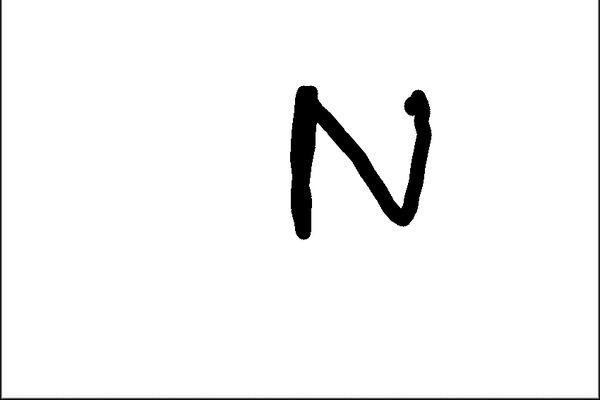N: (281, 74, 437, 243)
